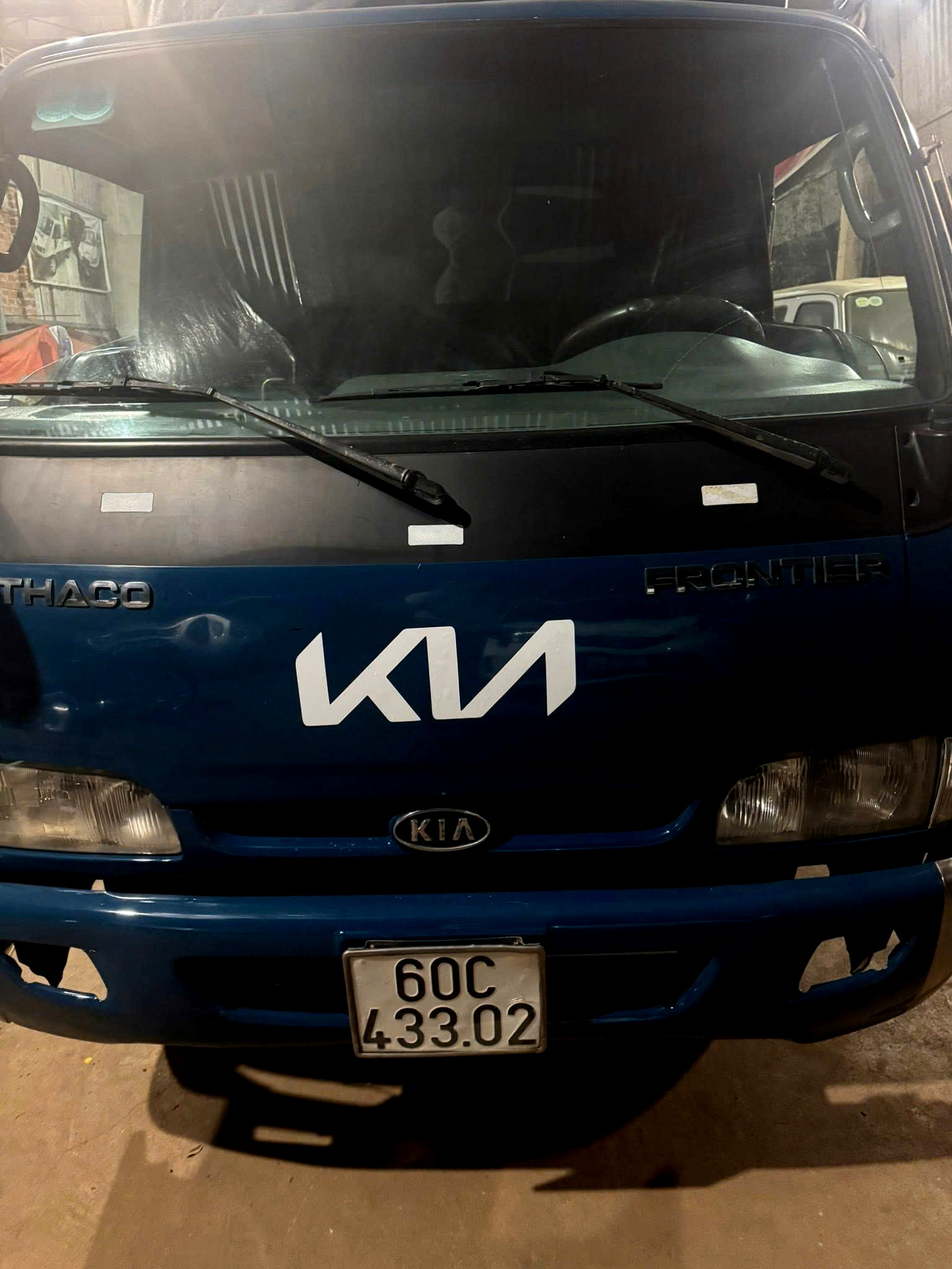Bien-so: (334, 949, 529, 1061)
